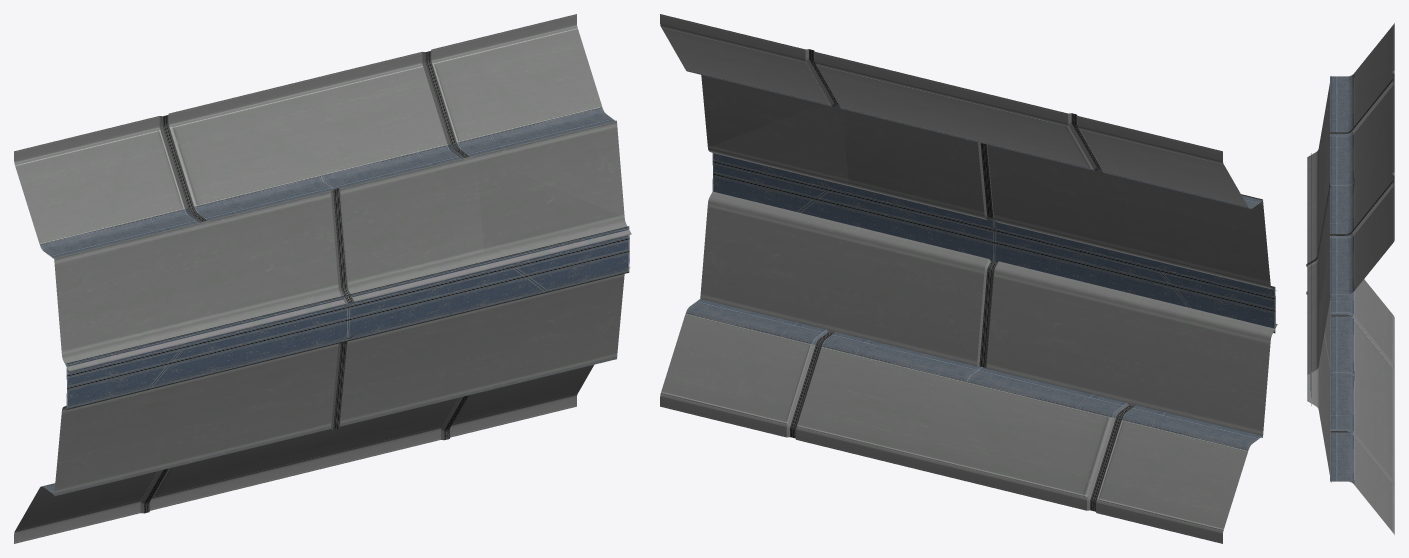
Rendered from Spctr_Wall_01.FBX.
3 views of the same model, side by side, from view 1: azimuth 30°, elevation 25°; view 2: azimuth 150°, elevation 25°; view 3: azimuth 270°, elevation 25° (orthographic). The views are drawn at different scales.
Visible parts, largest first — view 1: Spctr_Wall_01; view 2: Spctr_Wall_01; view 3: Spctr_Wall_01.
Boxes of the visible parts, bbox=[...] form: Spctr_Wall_01: bbox=[14, 14, 631, 543]; Spctr_Wall_01: bbox=[660, 14, 1277, 543]; Spctr_Wall_01: bbox=[1306, 23, 1394, 534].
Size of the model in its own units: 6 by 4 by 1.03.
